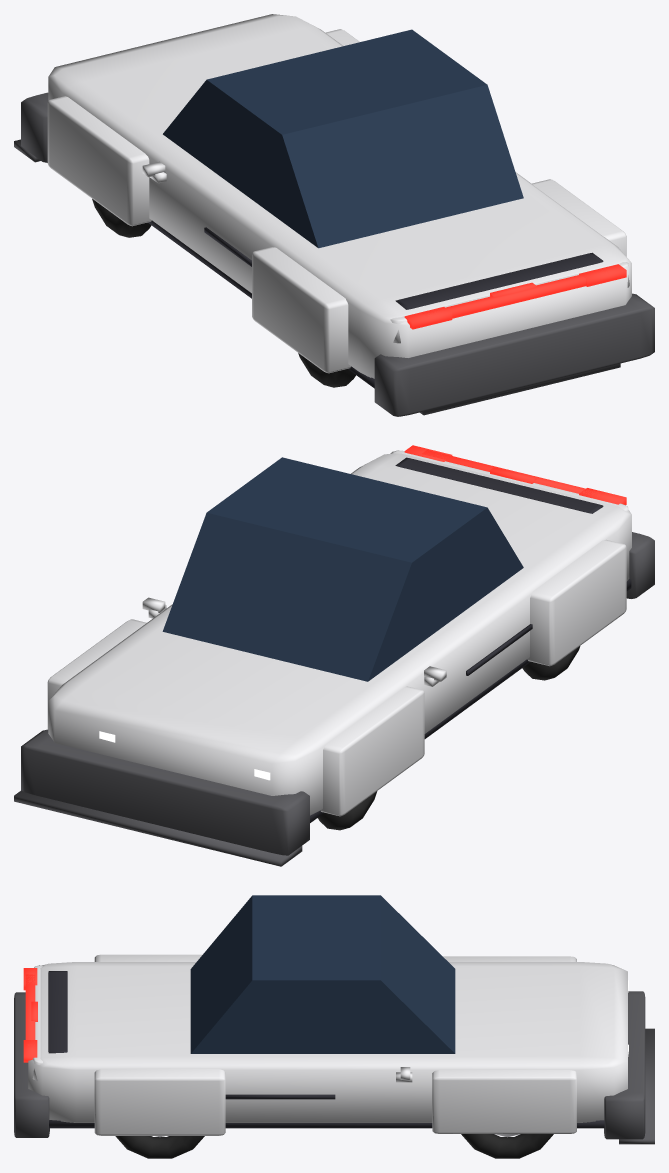
File: coupe_lowpoly.glb
3 renders of one model, top to bottom at view 1: azimuth 30°, elevation 25°; view 2: azimuth 150°, elevation 25°; view 3: azimuth 270°, elevation 25°, orthographic. The views are drawn at different scales.
Parts seen in each view (by area): view 1: Body, GlassCanopy, RearBumper, Fender-F, Fender-R, SpoilerLip, red_glass, Fender+R, FrontBumper, Diffuser, BodyTrim, Tire1 (+3 smaller); view 2: Body, GlassCanopy, FrontBumper, Fender-F, Fender-R, Splitter, SpoilerLip, Fender+F, RearBumper, red_glass, Tire1, BodyTrim (+2 smaller); view 3: Body, GlassCanopy, Fender+F, Fender+R, FrontBumper, RearBumper, BodyTrim, SpoilerLip, Tire0, Tire2, Splitter, Fender-R (+4 smaller).
Part boxes in pixels (<box>): Body: <box>48,14,631,378</box>; GlassCanopy: <box>163,29,523,248</box>; RearBumper: <box>374,293,654,416</box>; Fender-F: <box>47,96,151,226</box>; Fender-R: <box>252,247,351,373</box>; SpoilerLip: <box>395,252,603,309</box>; red_glass: <box>422,269,608,318</box>; Fender+R: <box>532,179,626,256</box>; FrontBumper: <box>21,92,48,162</box>; Diffuser: <box>420,363,620,415</box>; BodyTrim: <box>148,220,374,388</box>; Tire1: <box>92,199,151,237</box>; Body: <box>48,453,631,815</box>; GlassCanopy: <box>162,457,523,681</box>; FrontBumper: <box>21,729,309,855</box>; Fender-F: <box>320,686,424,816</box>; Fender-R: <box>527,539,626,666</box>; Splitter: <box>14,790,302,866</box>; SpoilerLip: <box>395,457,603,513</box>; Fender+F: <box>47,619,146,729</box>; RearBumper: <box>626,532,654,598</box>; red_glass: <box>422,450,609,497</box>; Tire1: <box>318,791,377,830</box>; BodyTrim: <box>310,579,631,822</box>; Body: <box>28,962,627,1122</box>; GlassCanopy: <box>190,895,455,1053</box>; Fender+F: <box>432,1070,576,1133</box>; Fender+R: <box>94,1069,225,1135</box>; FrontBumper: <box>604,991,645,1139</box>; RearBumper: <box>14,992,49,1137</box>; BodyTrim: <box>49,1120,604,1128</box>; SpoilerLip: <box>48,971,67,1053</box>; Tire0: <box>461,1134,553,1158</box>; Tire2: <box>115,1136,204,1158</box>; Splitter: <box>619,1028,654,1144</box>; Fender-R: <box>94,954,202,961</box>.
Bounding box in the file's own units: 2.14 × 1.4 × 4.65.
